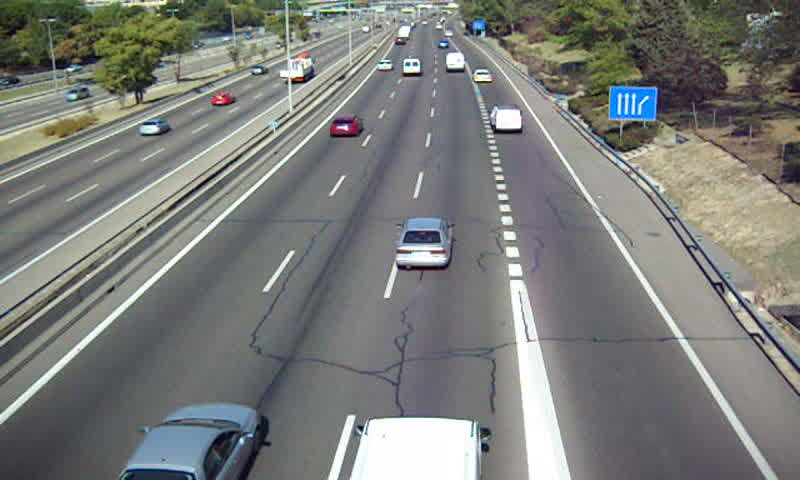car: (119, 404, 261, 480), (395, 219, 453, 270), (329, 116, 362, 137), (472, 67, 493, 83), (375, 58, 393, 71)
van: (490, 106, 522, 134), (444, 52, 466, 73), (402, 56, 421, 75)
